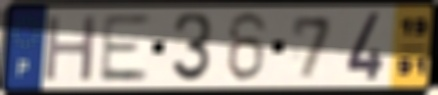3: (170, 11, 215, 85)
4: (343, 10, 385, 84)
6: (225, 10, 270, 85)
7: (290, 14, 334, 80)
E: (96, 12, 152, 84)
H: (41, 13, 100, 84)
